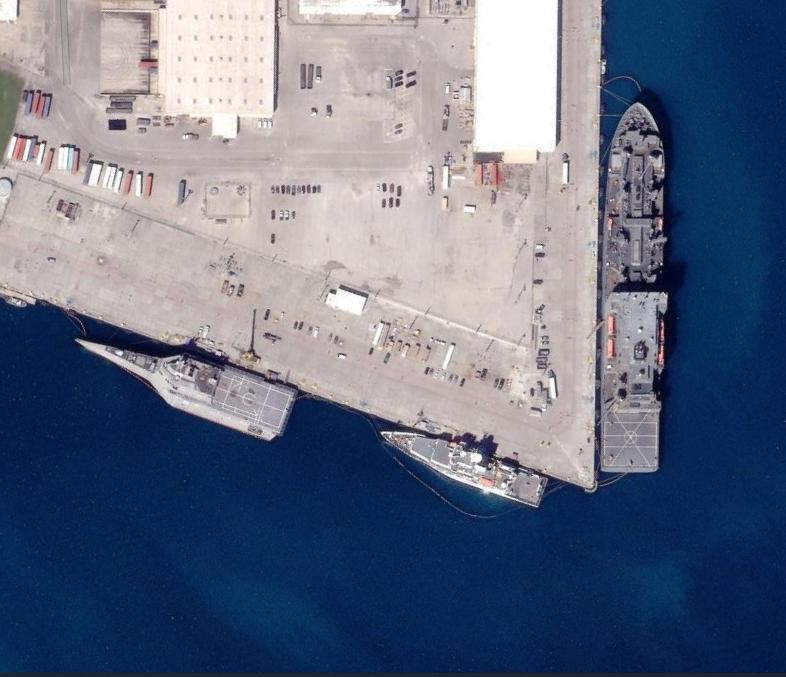littoral combat ship: (58, 322, 307, 451)
tender: (602, 71, 677, 483)
